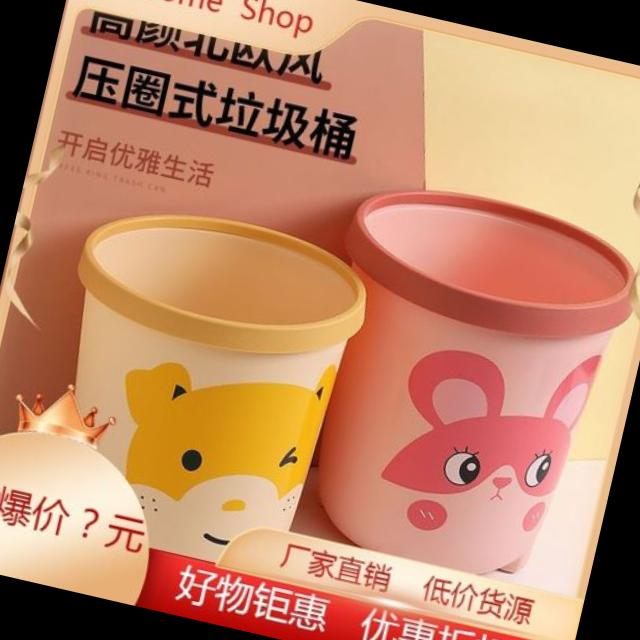dustbin: (280, 164, 640, 594), (17, 182, 382, 586)
